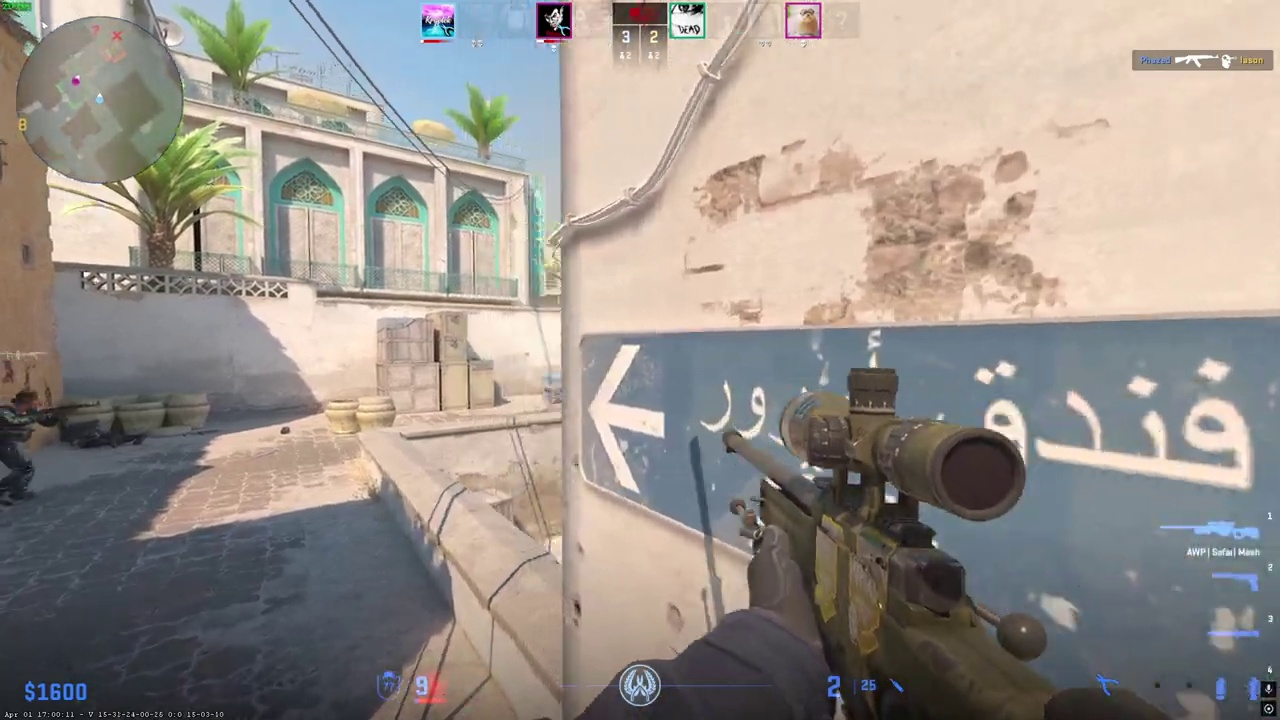CT: (0, 390, 50, 506)
